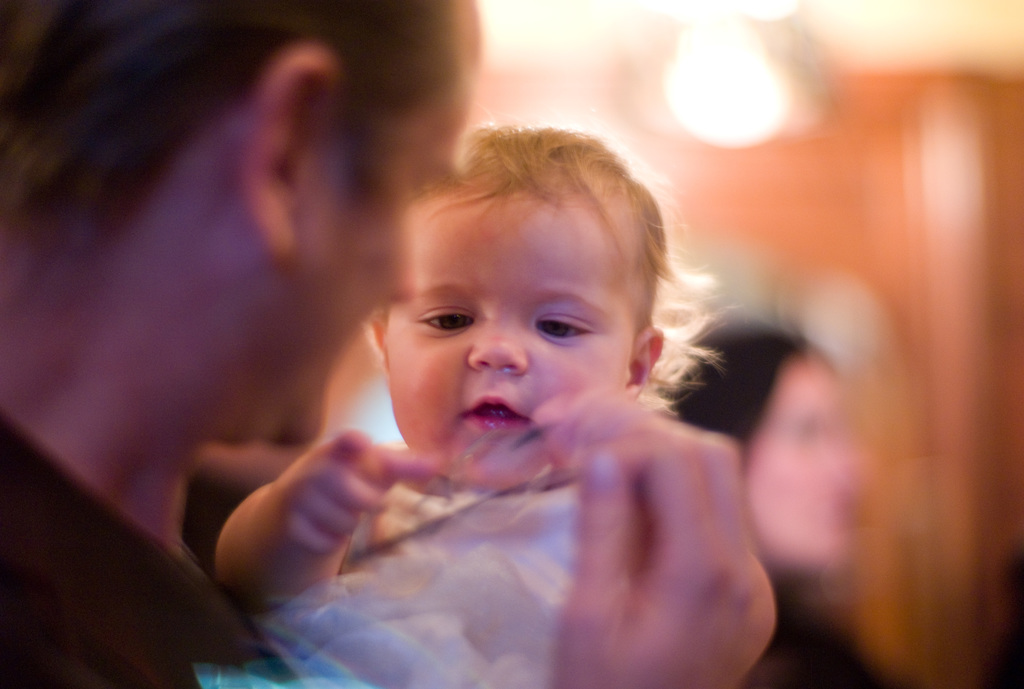Human_hand: (524, 382, 780, 688), (194, 427, 426, 606)
